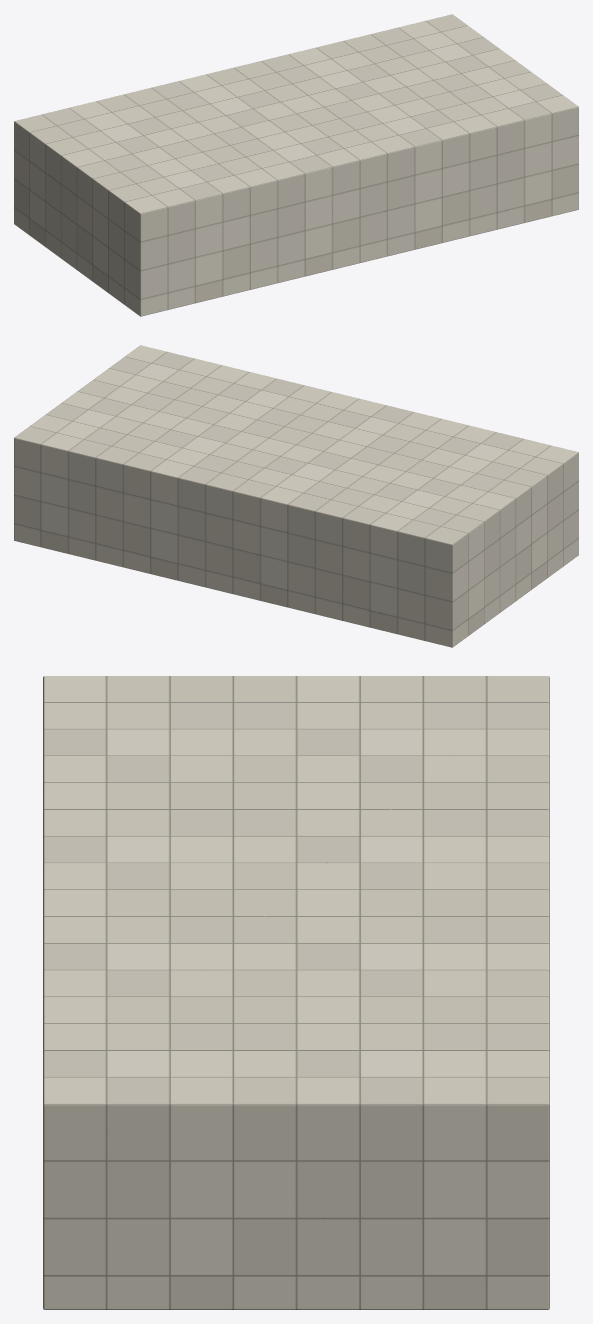
Rendered from MOD_39_Walkway_Wide.glb.
3 views of the same model, one above another, from view 1: azimuth 30°, elevation 25°; view 2: azimuth 150°, elevation 25°; view 3: azimuth 270°, elevation 25° (orthographic). The views are drawn at different scales.
Visible parts, largest first — view 1: MOD_39_Walkway_Wide_Export; view 2: MOD_39_Walkway_Wide_Export; view 3: MOD_39_Walkway_Wide_Export.
Part boxes in pixels (box(x1,y1,x2,y2)): MOD_39_Walkway_Wide_Export: box(14, 14, 578, 316); MOD_39_Walkway_Wide_Export: box(14, 345, 578, 647); MOD_39_Walkway_Wide_Export: box(43, 676, 549, 1309).
Bounding box in the file's own units: 4 × 0.9 × 2.
Materials: 1 (1 with a texture image).
